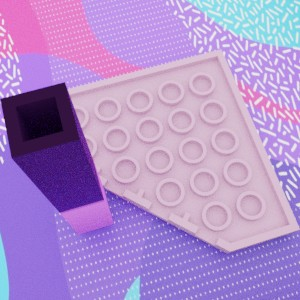lego: (35, 49, 300, 253), (0, 81, 113, 234)
